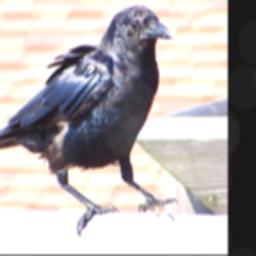Crow: (0, 5, 177, 237)
